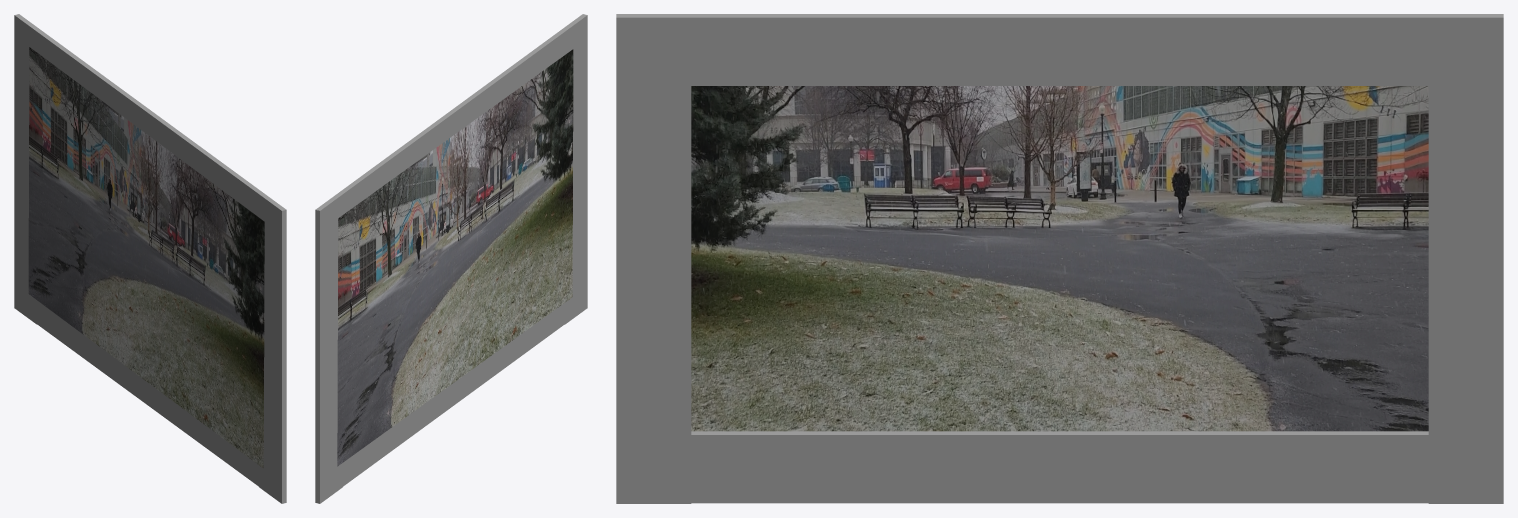
File: window5.fbx
3 renders of one model, left to right at view 1: azimuth 30°, elevation 25°; view 2: azimuth 150°, elevation 25°; view 3: azimuth 270°, elevation 25°, orthographic. The views are drawn at different scales.
Parts seen in each view (by area): view 1: pPlane1, pCube4, pCube1, pCube2, pCube3; view 2: pPlane1, pCube4, pCube1, pCube3, pCube2; view 3: pPlane1, pCube1, pCube4, pCube2, pCube3.
Boxes of the visible parts, bbox=[...] form: pPlane1: bbox=[28, 47, 264, 468]; pCube4: bbox=[14, 14, 286, 251]; pCube1: bbox=[14, 267, 281, 503]; pCube2: bbox=[259, 195, 286, 503]; pCube3: bbox=[14, 16, 36, 324]; pPlane1: bbox=[337, 49, 573, 466]; pCube4: bbox=[315, 14, 587, 249]; pCube1: bbox=[320, 267, 587, 503]; pCube3: bbox=[315, 195, 342, 503]; pCube2: bbox=[565, 27, 587, 324]; pPlane1: bbox=[691, 86, 1428, 431]; pCube1: bbox=[616, 431, 1503, 503]; pCube4: bbox=[616, 14, 1503, 85]; pCube2: bbox=[616, 18, 691, 503]; pCube3: bbox=[1428, 18, 1503, 503].
Size of the model in its own units: 0.682 by 30.47 by 50.41.
